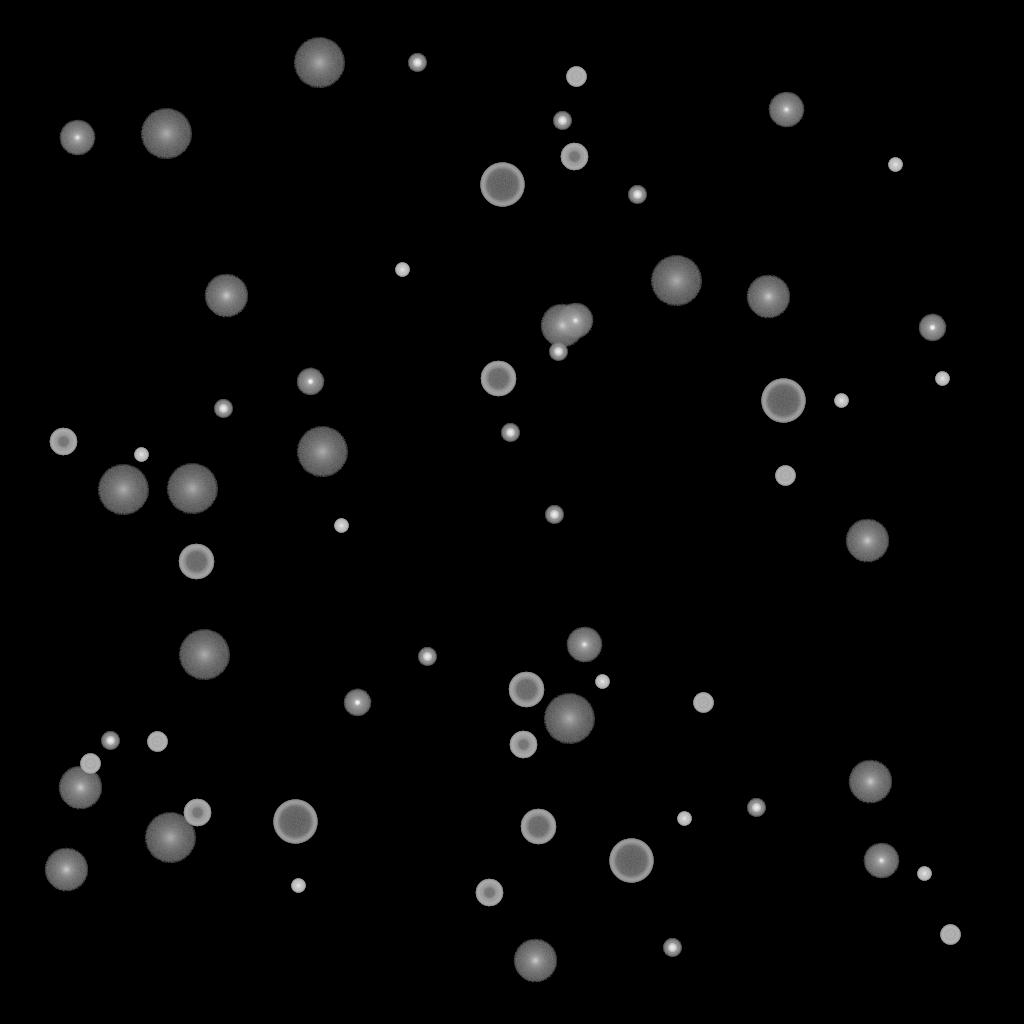depth:-10: (296, 368, 324, 396), (918, 314, 946, 342), (343, 689, 371, 717)
depth:-20: (545, 506, 563, 524), (549, 343, 567, 361), (628, 186, 646, 204), (101, 732, 119, 750), (214, 400, 232, 418), (553, 112, 571, 130), (747, 799, 765, 817), (501, 424, 519, 442), (663, 939, 681, 957), (418, 648, 436, 666), (408, 54, 426, 72)
depth:-30: (677, 812, 691, 826), (134, 448, 148, 462), (595, 675, 609, 689), (334, 519, 348, 533), (834, 394, 848, 408), (935, 372, 949, 386), (291, 879, 305, 893), (888, 158, 902, 172), (395, 263, 409, 277), (917, 867, 931, 881)
depth:-40: (775, 466, 795, 486), (566, 67, 586, 87), (80, 754, 100, 774), (940, 925, 960, 945), (693, 693, 713, 713), (147, 732, 167, 752)
depth:-50: (183, 799, 211, 827), (49, 428, 77, 456), (560, 143, 588, 171), (475, 879, 503, 907), (509, 731, 537, 759)
depth:-60: (178, 544, 214, 580), (480, 361, 516, 397), (520, 809, 556, 845), (508, 672, 544, 708)
depth:-70: (609, 839, 653, 883), (273, 800, 317, 844), (480, 163, 524, 207), (761, 379, 805, 423)
depth:0: (59, 120, 95, 156), (557, 303, 593, 339), (768, 92, 804, 128), (566, 627, 602, 663), (863, 843, 899, 879)
depth:10: (845, 519, 889, 563), (513, 939, 557, 983), (44, 848, 88, 892), (58, 766, 102, 810), (746, 275, 790, 319), (204, 274, 248, 318), (848, 760, 892, 804), (540, 304, 584, 348)
depth:20: (97, 465, 149, 515), (543, 694, 595, 744), (296, 427, 348, 477), (293, 38, 345, 88), (140, 109, 192, 159), (178, 630, 230, 680), (650, 256, 702, 306), (144, 813, 196, 863), (166, 464, 218, 514)
